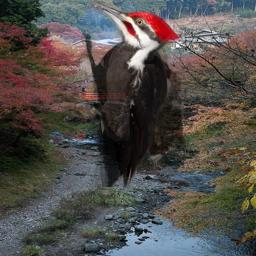Woodpecker: (74, 1, 186, 187)
